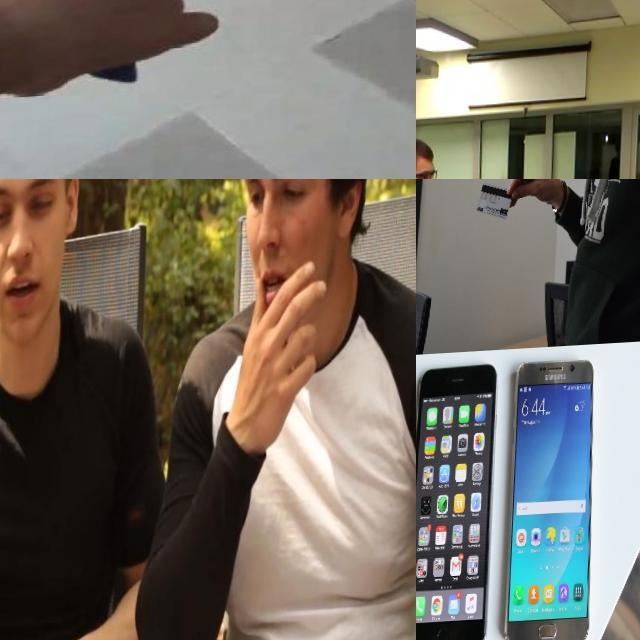-: (0, 0, 139, 143), (0, 488, 38, 640)
